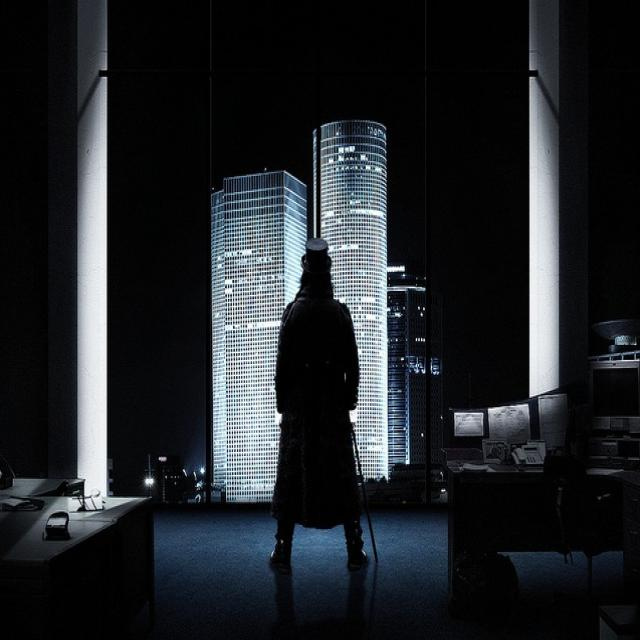People: (259, 214, 377, 595)
Table: (411, 433, 640, 625), (0, 458, 170, 628)
